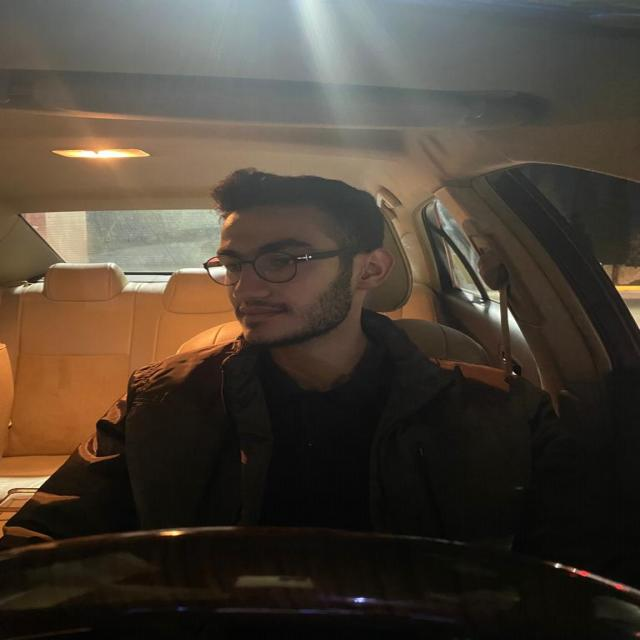LeftRight: (204, 167, 390, 362)
